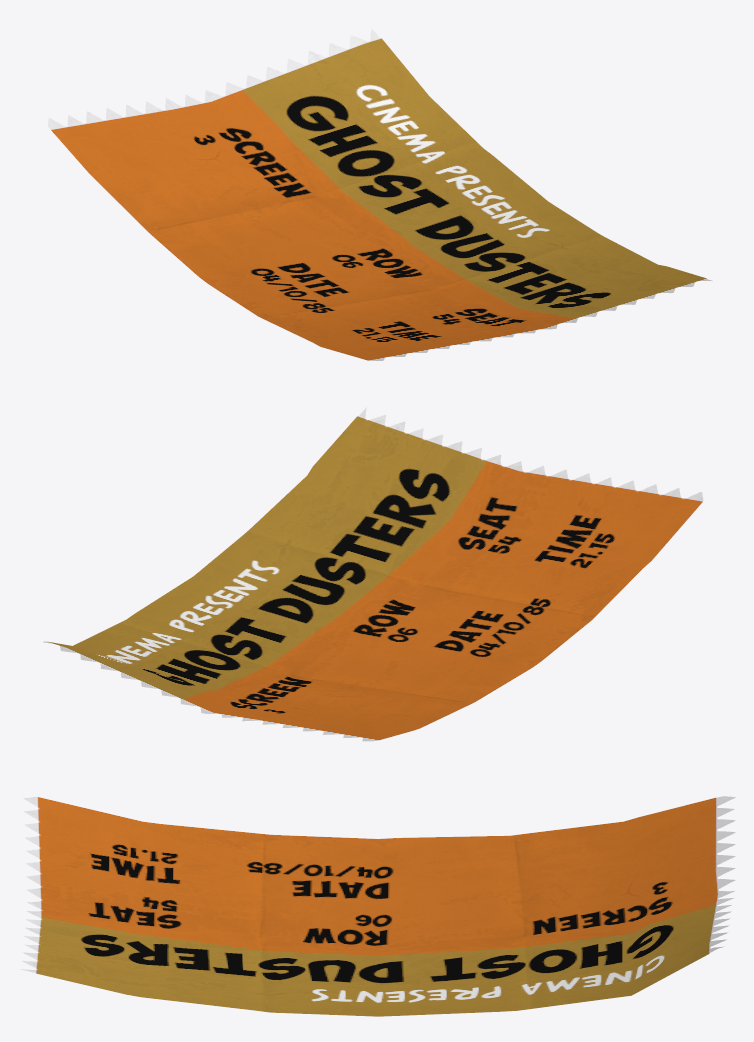
File: Ticket.FBX
3 renders of one model, top to bottom at view 1: azimuth 30°, elevation 25°; view 2: azimuth 150°, elevation 25°; view 3: azimuth 270°, elevation 25°, orthographic. The views are drawn at different scales.
Parts seen in each view (by area): view 1: Ticket; view 2: Ticket; view 3: Ticket.
Boxes of the visible parts, bbox=[...] form: Ticket: bbox=[47, 28, 712, 360]; Ticket: bbox=[43, 407, 703, 741]; Ticket: bbox=[20, 796, 735, 1016].
Bounding box in the file's own units: 8.42 × 1.56 × 12.6.
